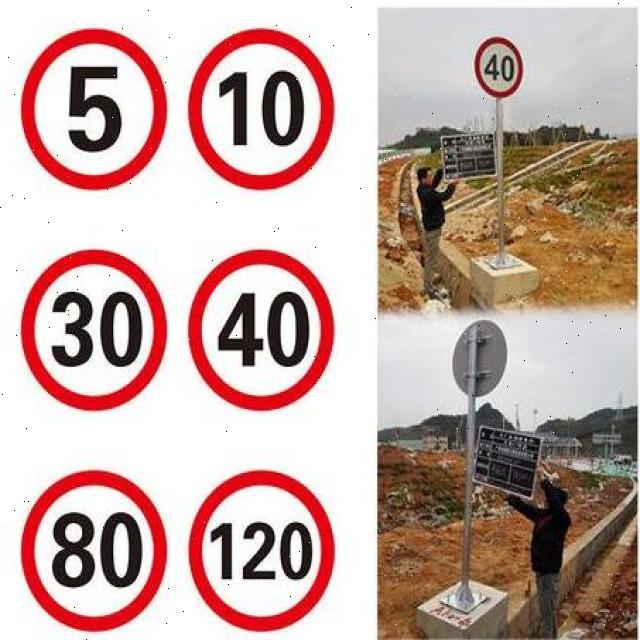speed limit 10: (185, 29, 336, 192), (19, 27, 166, 191)
speed limit 120: (186, 470, 335, 633)
speed limit 30: (18, 248, 171, 414)
speed limit 40: (185, 247, 335, 412), (474, 36, 524, 100)
speed limit 80: (21, 470, 168, 635)
